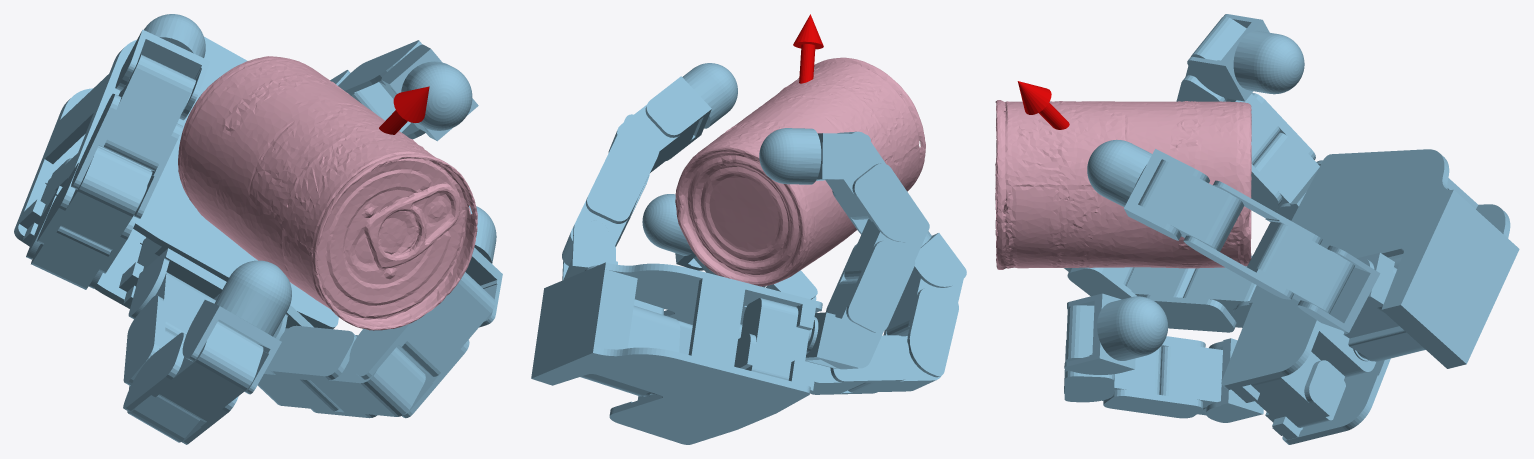
3 views of the same model, side by side, from view 1: azimuth 30°, elevation 25°; view 2: azimuth 150°, elevation 25°; view 3: azimuth 270°, elevation 25° (orthographic). The views are drawn at different scales.
Visible parts, largest first — view 1: world, tomato_soup_can.stl; view 2: world, tomato_soup_can.stl; view 3: world, tomato_soup_can.stl.
Part boxes in pixels (bbox=[...]): world: bbox=[14, 14, 502, 444]; tomato_soup_can.stl: bbox=[178, 56, 477, 330]; world: bbox=[531, 14, 966, 444]; tomato_soup_can.stl: bbox=[675, 57, 925, 286]; world: bbox=[1017, 14, 1519, 444]; tomato_soup_can.stl: bbox=[995, 100, 1251, 269].
Bounding box in the file's own units: 0.1586 × 0.1596 × 0.2083.
